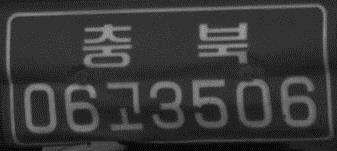0: (21, 80, 59, 136), (234, 76, 274, 129)
3: (148, 77, 186, 133)
5: (189, 76, 228, 133)
6: (277, 74, 316, 128), (63, 79, 100, 135)
고: (104, 79, 144, 133)
충북_D: (81, 19, 250, 71)
